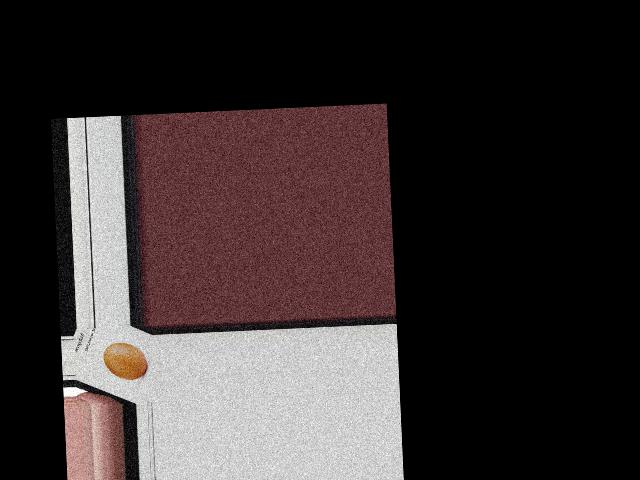egg: (103, 342, 147, 381)
